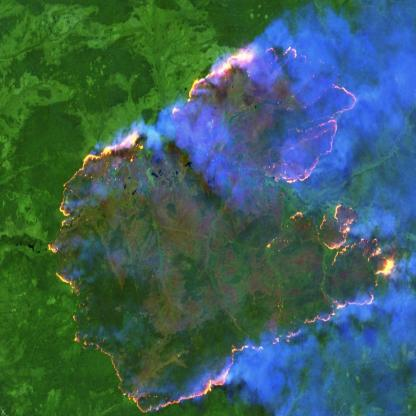fire: (42, 23, 400, 416)
